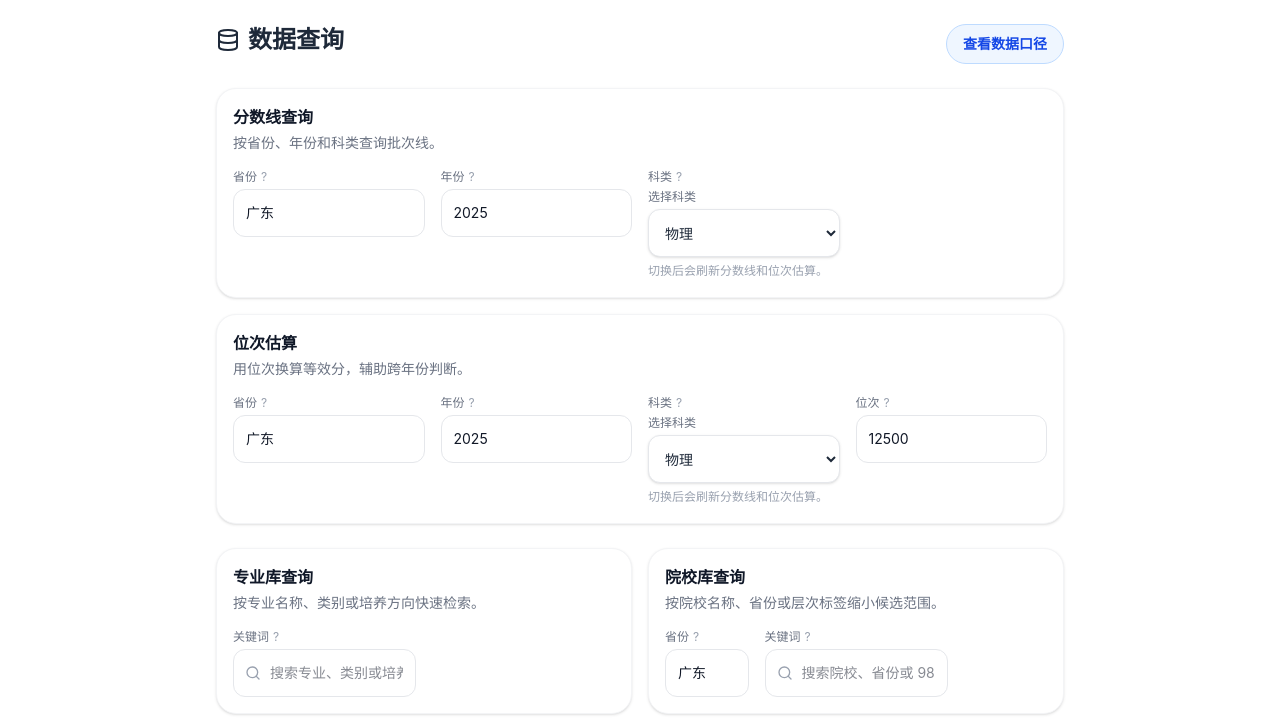
Test case: DataQueryPage › opens methodology modal from header action
The width and height of the screenshot is (1280, 720).
Click the button "查看数据口径" at x=1005, y=44, box [946, 24, 1064, 64]
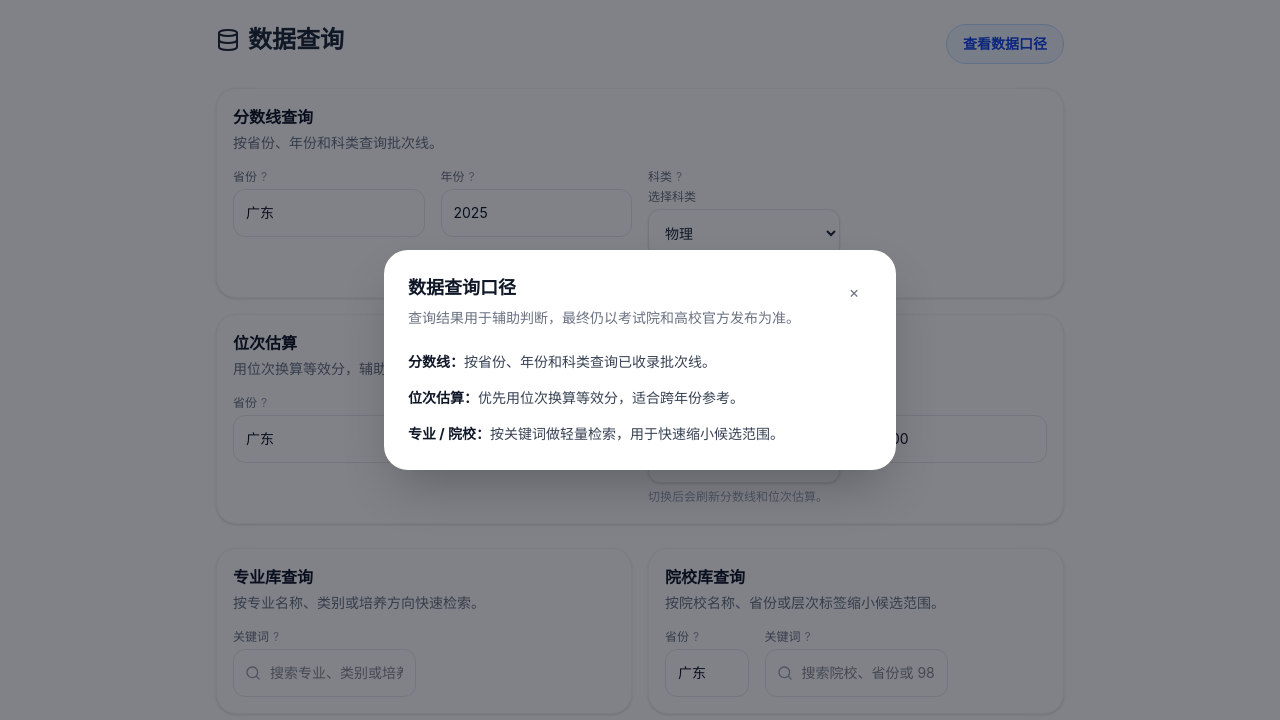
Expected: the dialog "数据查询口径" shows "位次估算", [408, 389, 478, 406]
